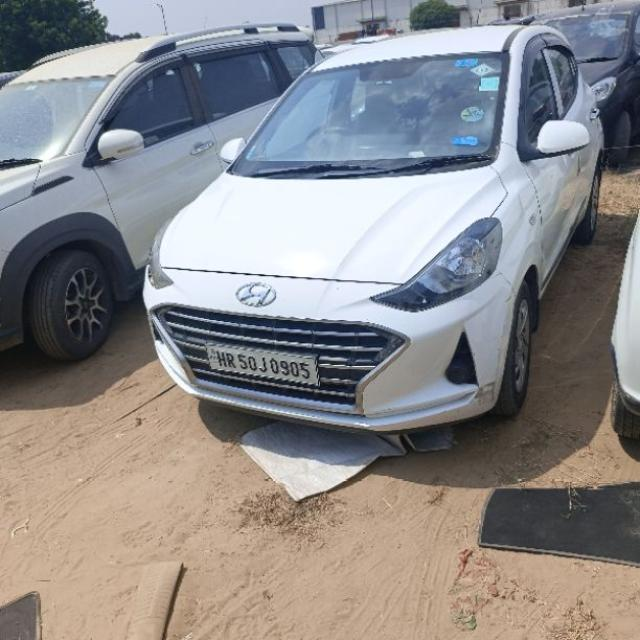license_plate: (204, 342, 320, 387)
